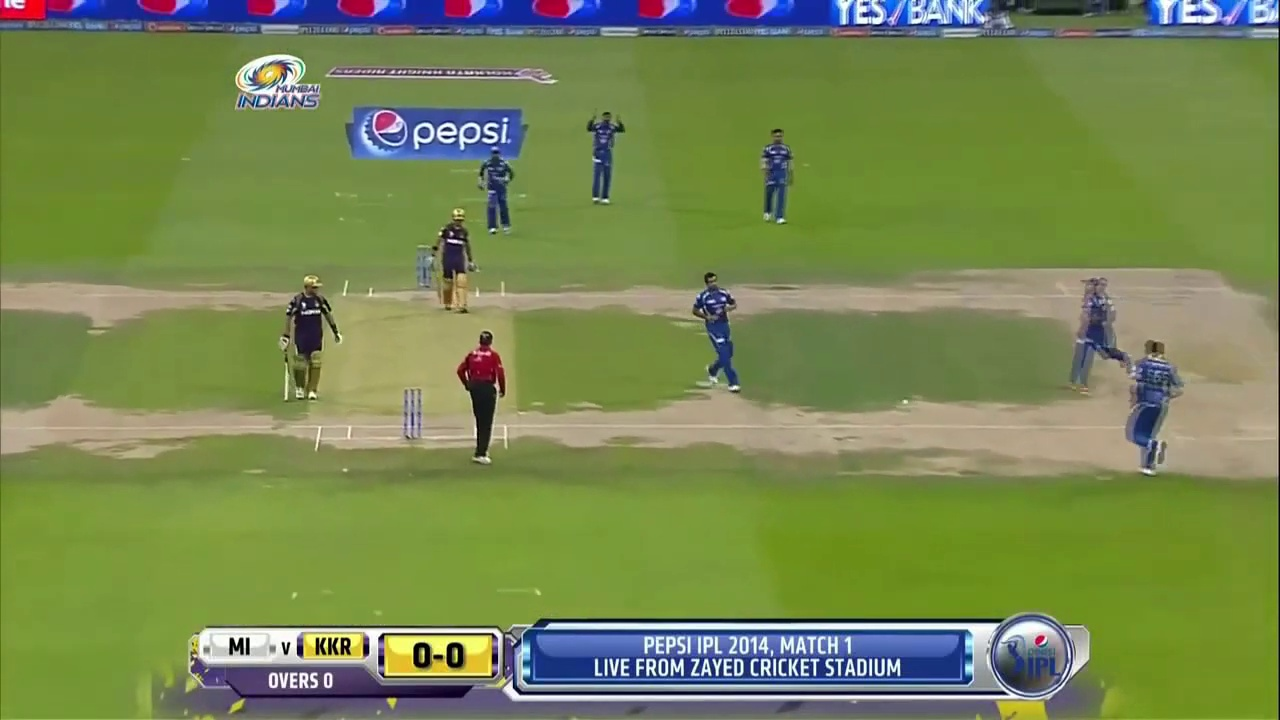bat: (283, 353, 291, 402)
stumps: (402, 387, 423, 442)
